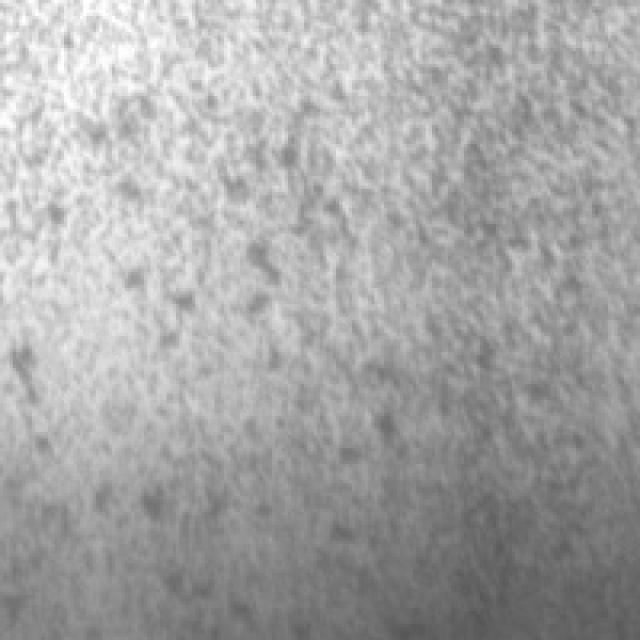pitted_surface: (39, 19, 630, 637)
